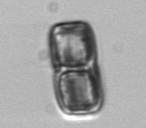plankton: (45, 19, 107, 122)
